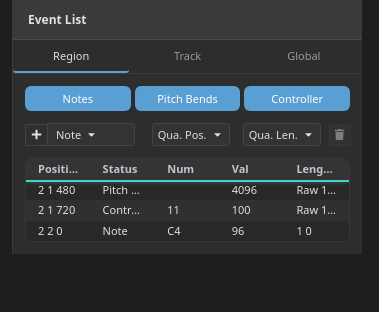
EventListPanel › toggles track filters independently
Click the button "Track" at (187, 56), box x1=129 y1=40 x2=246 y2=73
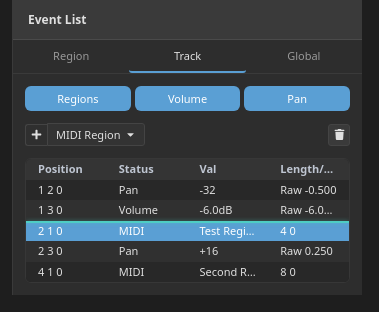
Click the button "Regions" at (78, 98), box x1=25 y1=86 x2=131 y2=111
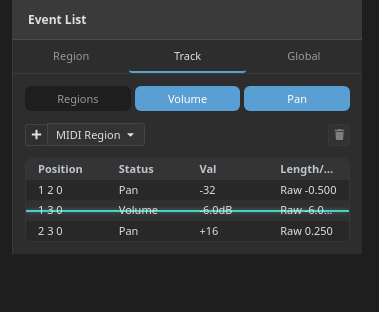
Now the text "-6.0dB" is shown, box x1=188 y1=200 x2=268 y2=220
Now the text "-32" is shown, box x1=188 y1=180 x2=268 y2=200
Now the text "Second Region" is gone
Click the button "Volume" at (188, 98), box x1=135 y1=86 x2=240 y2=111
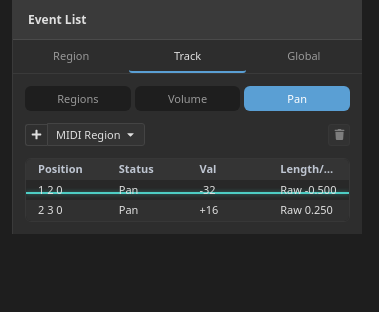
Now the text "-32" is shown, box x1=188 y1=180 x2=268 y2=200
Now the text "-6.0dB" is gone
